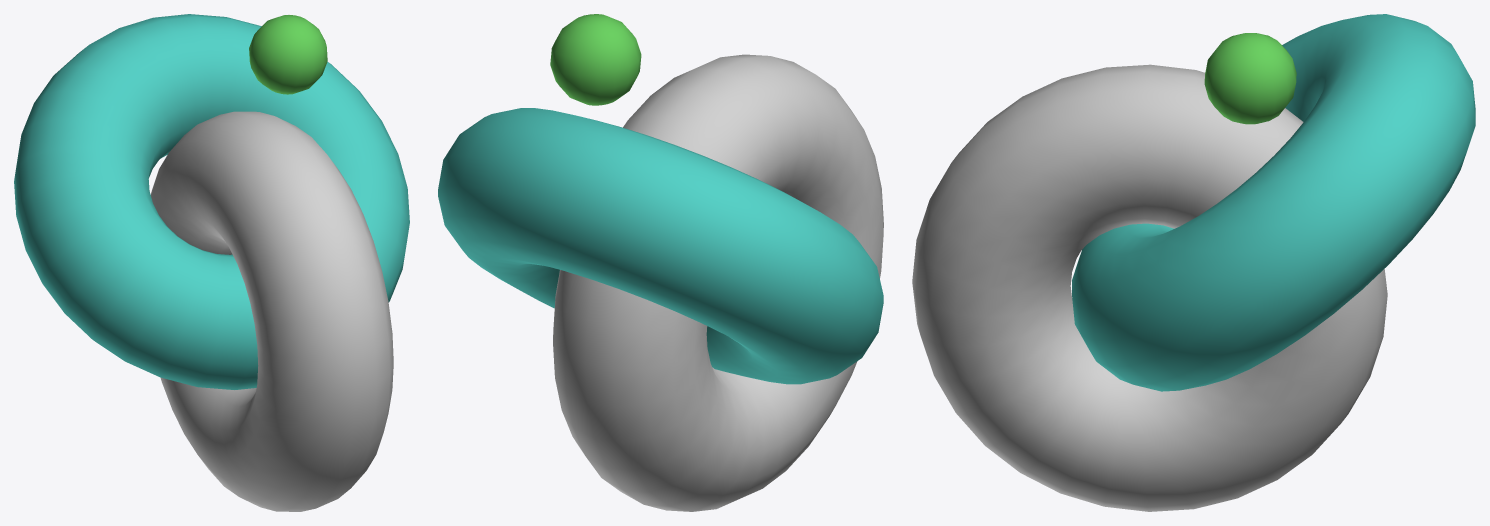
File: Head4.fbx
The picture shows the model from 3 angles, left to right: view 1: azimuth 30°, elevation 25°; view 2: azimuth 150°, elevation 25°; view 3: azimuth 270°, elevation 25°; orthographic projection. The views are drawn at different scales.
Parts seen in each view (by area): view 1: Head4Torus, Head4Torus2, Head4Sphere; view 2: Head4Torus, Head4Torus2, Head4Sphere; view 3: Head4Torus2, Head4Torus, Head4Sphere.
Part boxes in pixels (x1,y1,x2,y2): Head4Torus: (14,14,409,389); Head4Torus2: (151,111,393,511); Head4Sphere: (249,15,327,94); Head4Torus: (438,108,883,384); Head4Torus2: (553,54,883,511); Head4Sphere: (550,14,641,105); Head4Torus2: (912,64,1387,511); Head4Torus: (1072,14,1475,391); Head4Sphere: (1204,33,1296,124).
Size of the model in its own units: 63.49 by 74.27 by 75.24.
